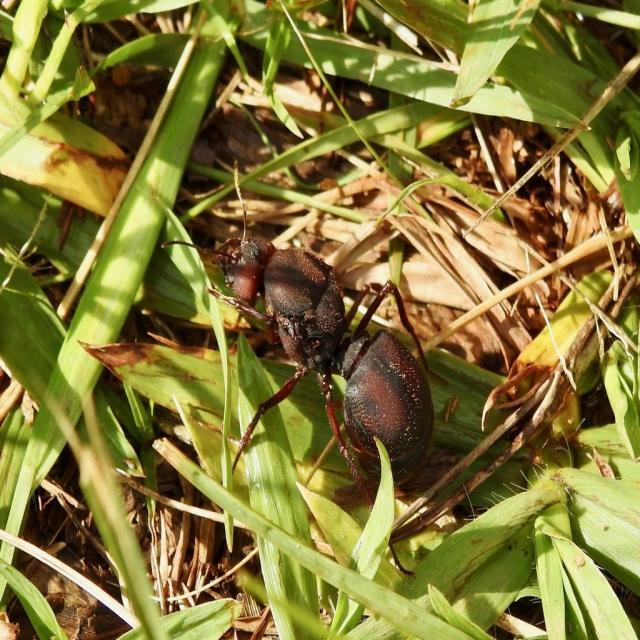Alive-Female-Dealate: (161, 158, 450, 584)
